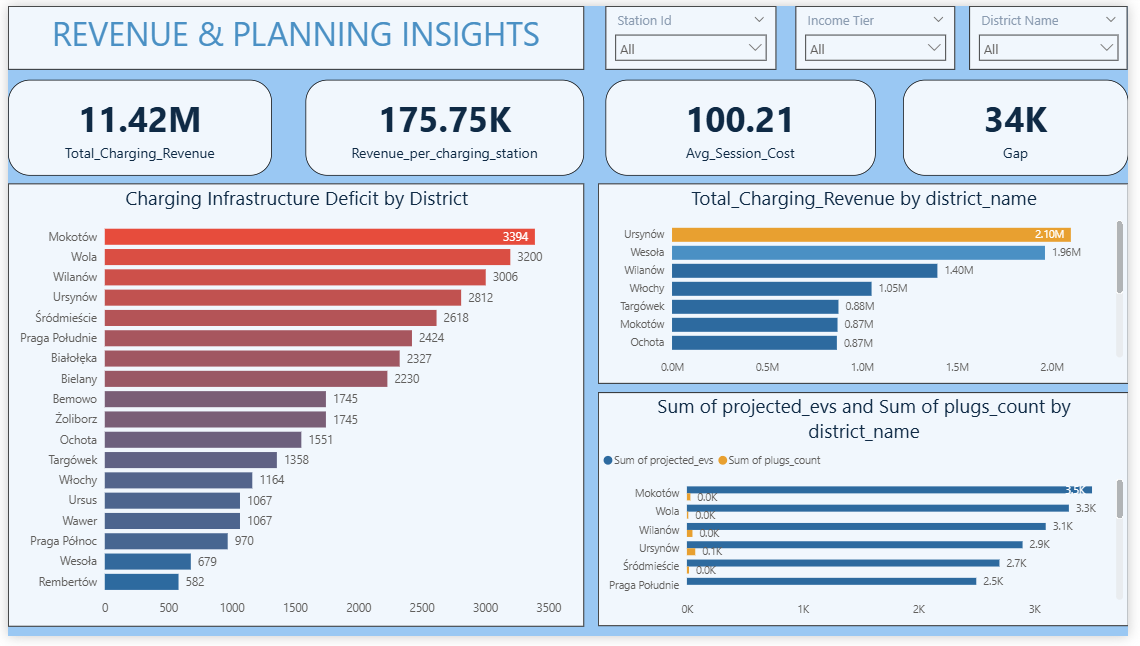

This screenshot's page, from the dashboard's own definition file:
{"tool":"powerbi","page":{"name":"Revenue and Planning","canvas":[1280,720],"ordinal":3},"visuals":[{"type":"card","fields":{"Values":["a.Total_Charging_Revenue"]},"box":[0,83.7,301.9,109.8],"z":0},{"type":"card","fields":{"Values":["a.Avg_Session_Cost"]},"box":[683.4,83.7,308.7,109.8],"z":1000},{"type":"card","fields":{"Values":["a.Revenue_per_charging_station"]},"box":[340.3,83.7,318.4,109.8],"z":2000},{"type":"barChart","fields":{"Y":["a.Total_Charging_Revenue"],"Category":["districts.district_name"]},"box":[673.8,203.1,606.5,229.2],"z":3000},{"type":"barChart","title":"Charging Infrastructure Deficit by District","fields":{"Category":["districts.district_name"],"Y":["a.Gap"]},"box":[0,203.1,658.7,506.3],"z":4000},{"type":"clusteredBarChart","fields":{"Category":["districts.district_name"],"Y":["Sum(districts.projected_evs)","Sum(charging_station.plugs_count)"]},"box":[673.8,441.9,606.5,267.6],"z":5000},{"type":"slicer","fields":{"Values":["districts.district_name"]},"box":[1099.1,0,181.1,72.7],"z":6000},{"type":"slicer","fields":{"Values":["customers.income_tier"]},"box":[900.2,0,182.5,72.7],"z":7000},{"type":"slicer","fields":{"Values":["charging_station.station_id"]},"box":[683.4,0,194.9,72.7],"z":8000},{"type":"textbox","box":[0,0,658.7,72.7],"z":9000},{"type":"card","fields":{"Values":["a.Gap"]},"box":[1022.3,83.7,258,109.8],"z":10000}]}

Visuals, with their boxes in screenshot pixels (x1, y1, x2, y2), scaled from the page's 1280x720 canvas onto the 1140x646 screenshot:
card - a.Total_Charging_Revenue: box=[0, 75, 269, 174]
card - a.Avg_Session_Cost: box=[609, 75, 884, 174]
card - a.Revenue_per_charging_station: box=[303, 75, 587, 174]
barChart - a.Total_Charging_Revenue x districts.district_name: box=[600, 182, 1139, 388]
"Charging Infrastructure Deficit by District" barChart: box=[0, 182, 587, 636]
clusteredBarChart - districts.district_name x Sum(districts.projected_evs): box=[600, 396, 1139, 637]
slicer - districts.district_name: box=[979, 0, 1139, 65]
slicer - customers.income_tier: box=[802, 0, 964, 65]
slicer - charging_station.station_id: box=[609, 0, 782, 65]
textbox: box=[0, 0, 587, 65]
card - a.Gap: box=[910, 75, 1139, 174]
